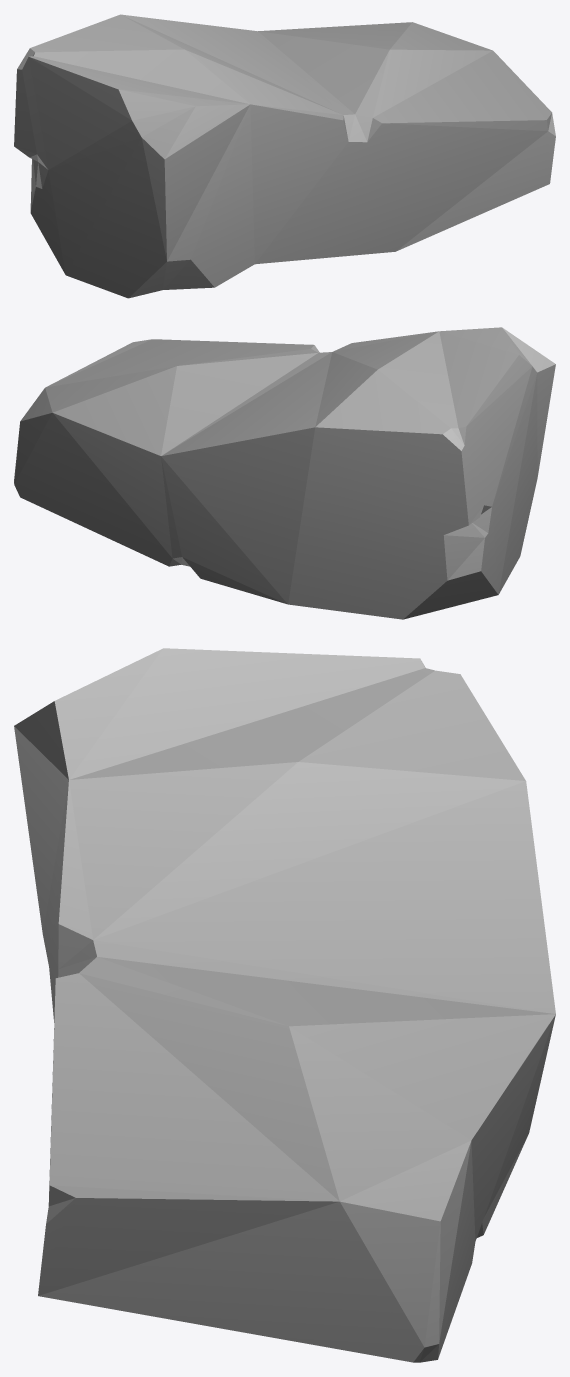
Rendered from stone-small.glb.
3 views of the same model, one above another, from view 1: azimuth 30°, elevation 25°; view 2: azimuth 150°, elevation 25°; view 3: azimuth 270°, elevation 25° (orthographic). The views are drawn at different scales.
Visible parts, largest first — view 1: stone small; view 2: stone small; view 3: stone small.
Boxes of the visible parts, left/top/right/bottom form: stone small: left=14, top=14, right=555, bottom=298; stone small: left=14, top=327, right=555, bottom=619; stone small: left=14, top=648, right=555, bottom=1362.
Size of the model in its own units: 2.61 by 1.16 by 1.48.
1 material, 1 textured.
